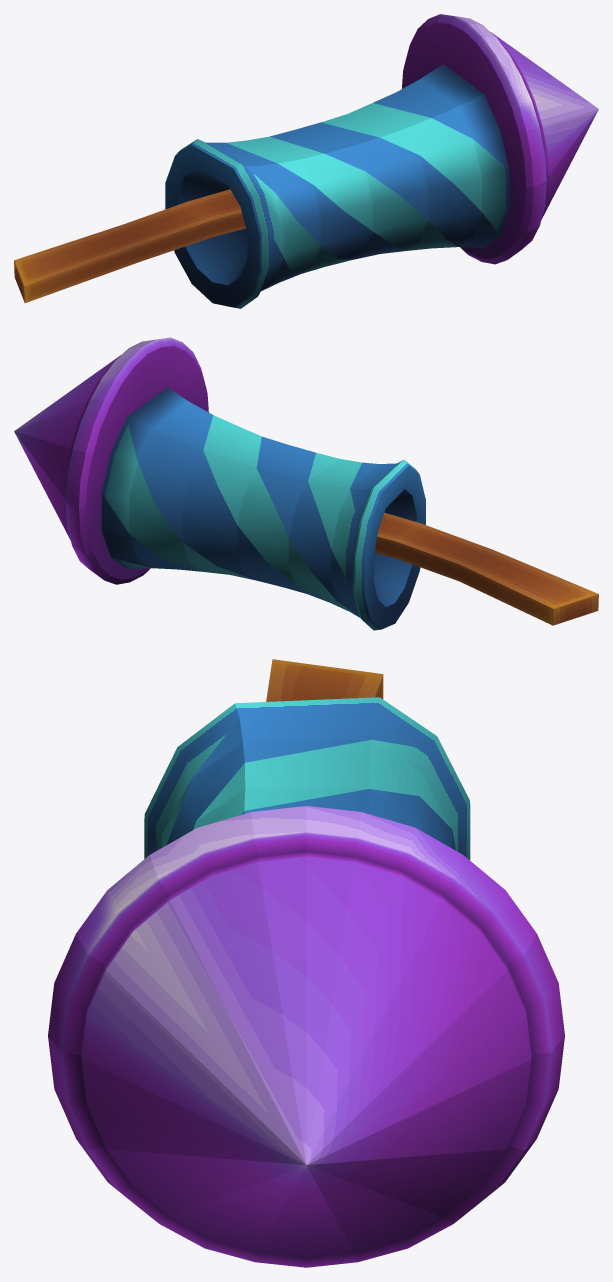
The model's file is NewYears01_Power1.glb.
3 views of the same model, one above another, from view 1: azimuth 30°, elevation 25°; view 2: azimuth 150°, elevation 25°; view 3: azimuth 270°, elevation 25° (orthographic). The views are drawn at different scales.
Parts seen in each view (by area): view 1: NewYears01_Power1; view 2: NewYears01_Power1; view 3: NewYears01_Power1.
Boxes of the visible parts, <box> form: NewYears01_Power1: <box>14,14,598,308</box>; NewYears01_Power1: <box>14,337,598,630</box>; NewYears01_Power1: <box>48,659,564,1267</box>.
Size of the model in its own units: 12.17 by 4.62 by 4.73.
Materials: 1 (1 with a texture image).
